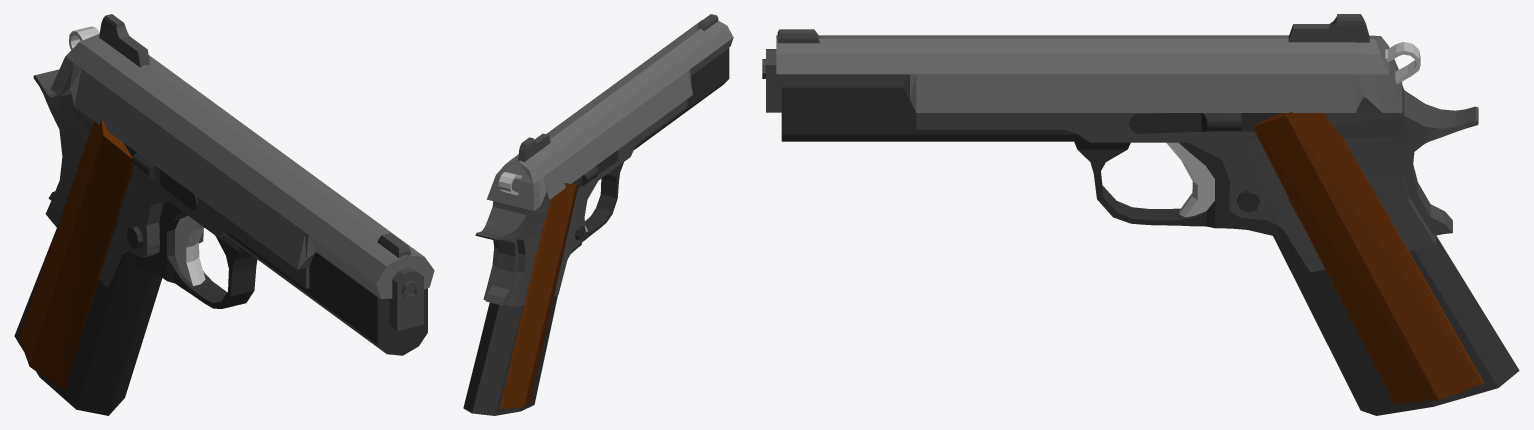
The model's file is gun.gltf.
3 renders of one model, left to right at view 1: azimuth 30°, elevation 25°; view 2: azimuth 150°, elevation 25°; view 3: azimuth 270°, elevation 25°, orthographic. The views are drawn at different scales.
Parts seen in each view (by area): view 1: node-0; view 2: node-0; view 3: node-0.
Part boxes in pixels (x1=…): node-0: x1=14, y1=14, x2=434, y2=415; node-0: x1=463, y1=14, x2=733, y2=415; node-0: x1=762, y1=14, x2=1519, y2=415.
Bounding box in the file's own units: 0.8954 × 4.14 × 7.2.
